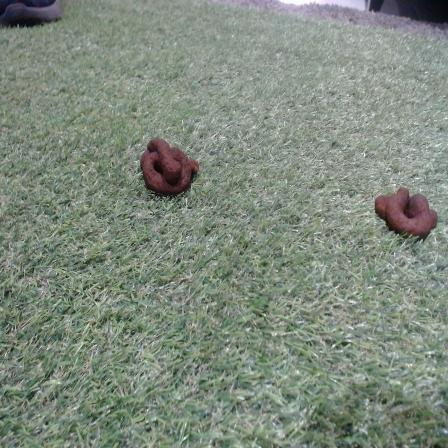dog-poop: (370, 180, 440, 240), (137, 135, 202, 198)
